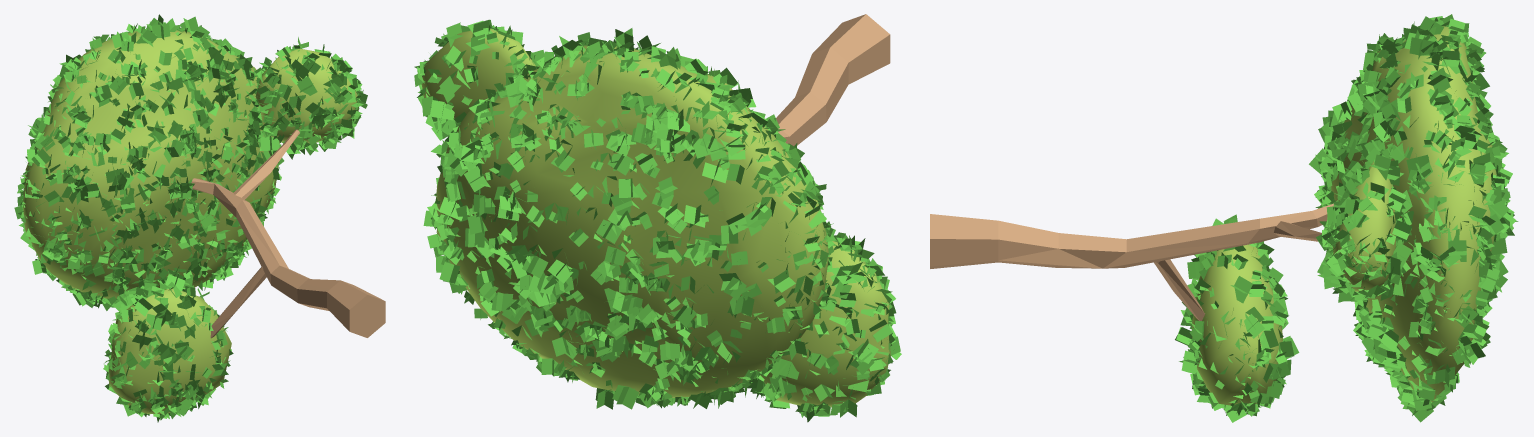
Rendered from tree01.fbx.
3 renders of one model, left to right at view 1: azimuth 30°, elevation 25°; view 2: azimuth 150°, elevation 25°; view 3: azimuth 270°, elevation 25°, orthographic. The views are drawn at different scales.
Parts seen in each view (by area): view 1: Tree01Leaves, Tree01Trunk; view 2: Tree01Leaves, Tree01Trunk; view 3: Tree01Leaves, Tree01Trunk.
Part boxes in pixels (box(x1,y1,x2,y2)): Tree01Leaves: box(14, 14, 367, 422); Tree01Trunk: box(191, 129, 385, 338); Tree01Leaves: box(414, 19, 901, 422); Tree01Trunk: box(776, 14, 890, 145); Tree01Leaves: box(1175, 14, 1518, 422); Tree01Trunk: box(930, 203, 1333, 320).
Size of the model in its own units: 664 by 636 by 822.
